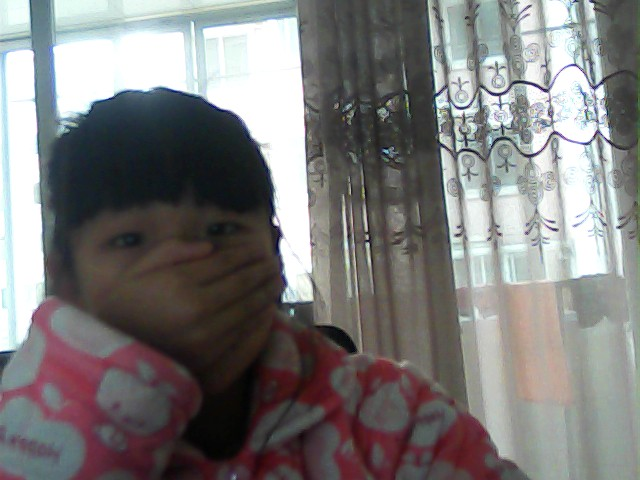face: (88, 173, 267, 365)
